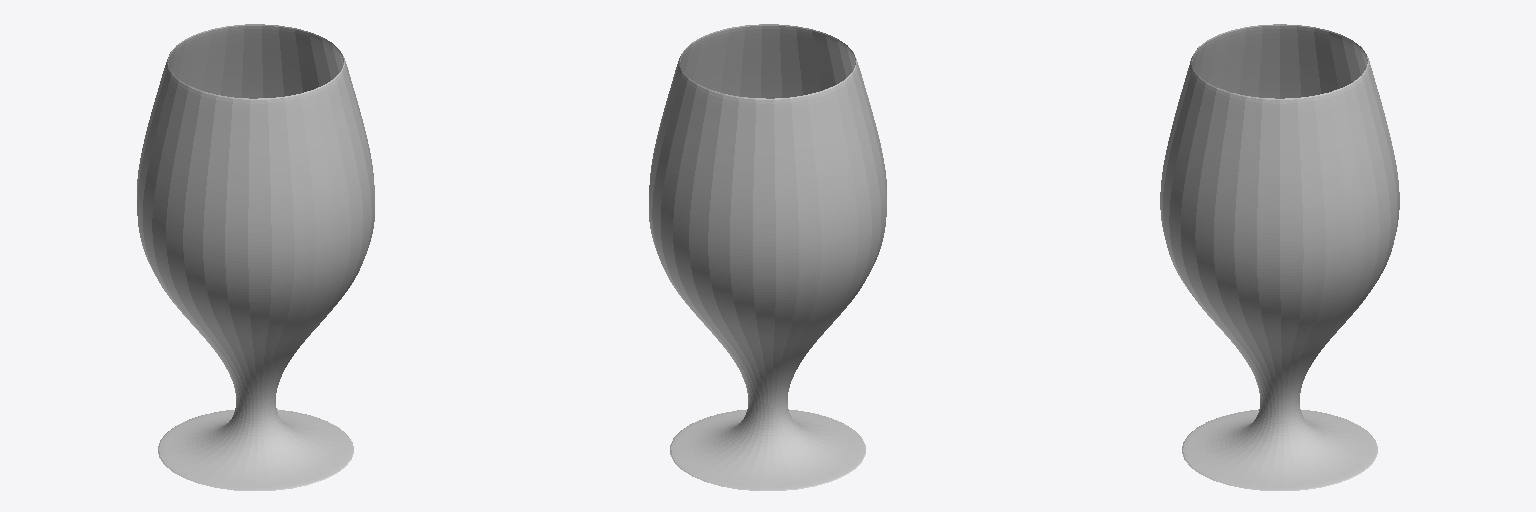
Rendered from fat_wine_glass.obj.
The picture shows the model from 3 angles: view 1: azimuth 30°, elevation 25°; view 2: azimuth 150°, elevation 25°; view 3: azimuth 270°, elevation 25°; orthographic projection.
Bounding box in the file's own units: 0.0917 × 0.1644 × 0.0917.